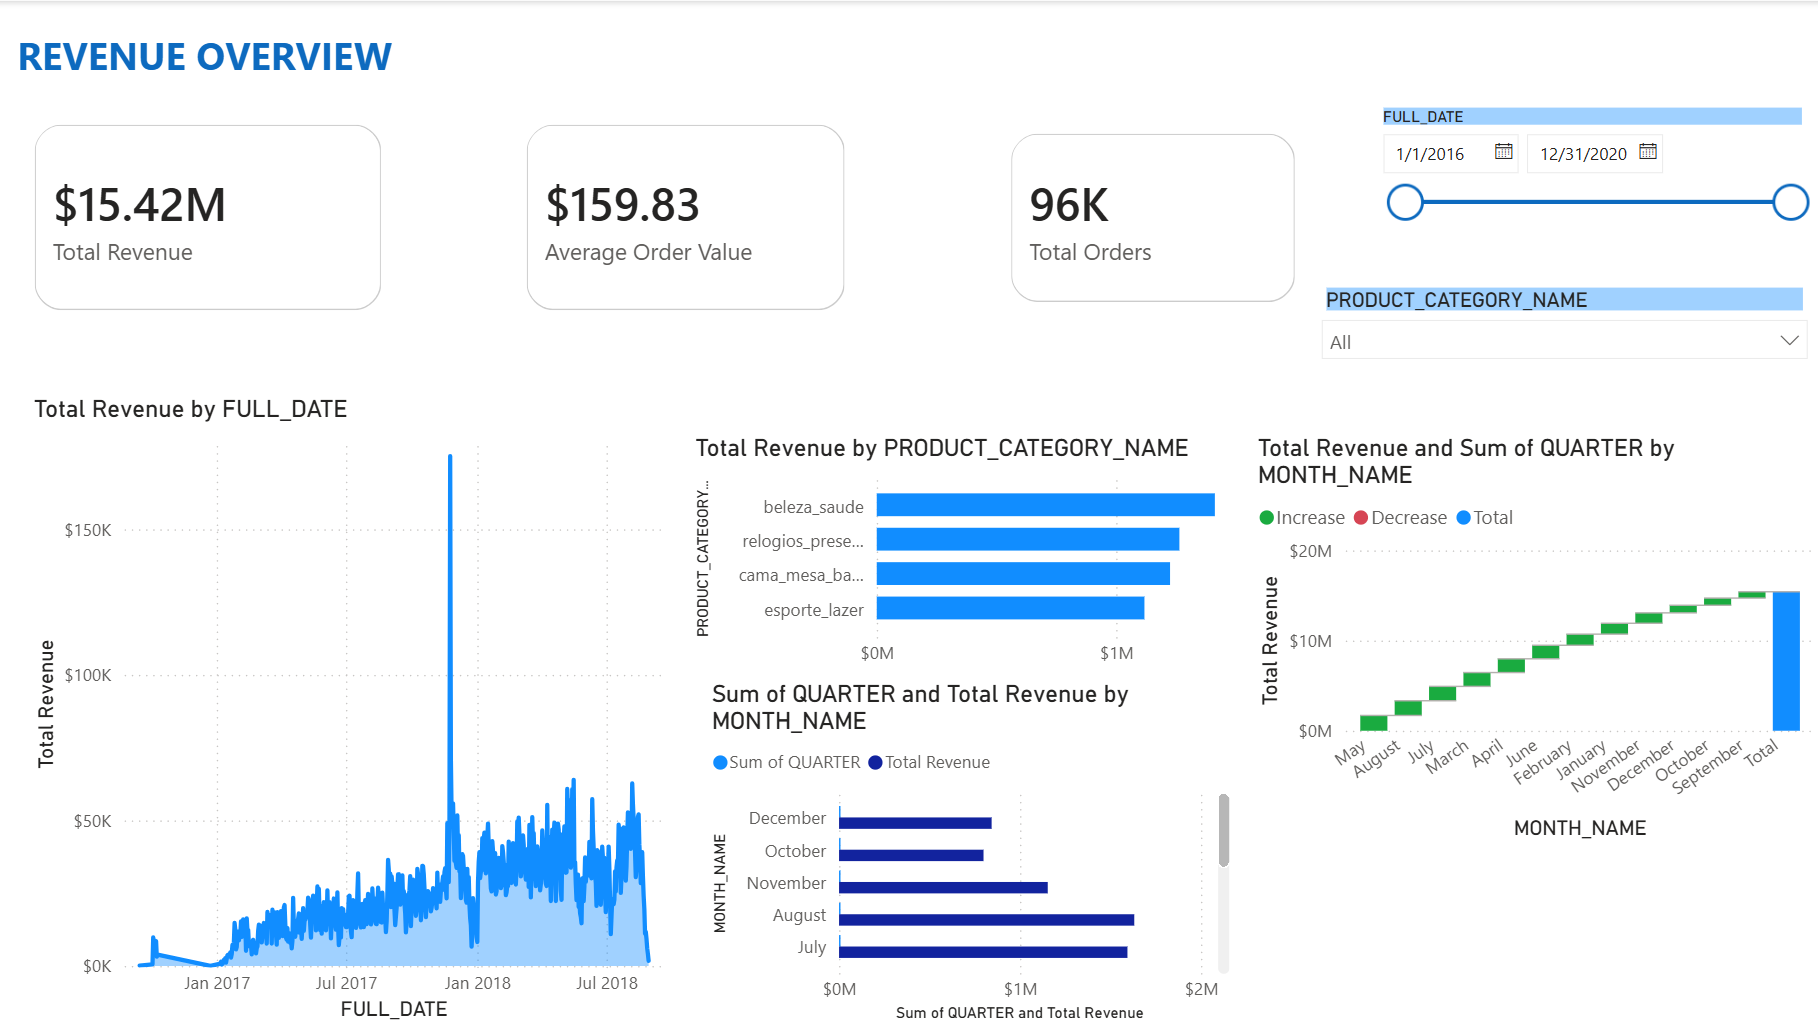

Layout of this report page (visuals, bound fields, positions):
{"tool":"powerbi","page":{"name":"Revenue","canvas":[1280,720],"ordinal":1},"visuals":[{"type":"cardVisual","fields":{"Data":["_MEASURES.Total Revenue"]},"box":[10.1,69.8,277,164.4],"z":0},{"type":"cardVisual","fields":{"Data":["_MEASURES.Average Order Value"]},"box":[355.9,69.8,257.9,164.4],"z":1000},{"type":"cardVisual","fields":{"Data":["_MEASURES.Total Orders"]},"box":[694.8,75.4,233.1,152],"z":2000},{"type":"lineChart","fields":{"Category":["DIM_DATE.FULL_DATE"],"Y":["_MEASURES.Total Revenue"]},"box":[22.5,275.9,462.8,443.7],"z":3000},{"type":"barChart","fields":{"Category":["DIM_PRODUCT.PRODUCT_CATEGORY_NAME"],"Y":["_MEASURES.Total Revenue"]},"box":[485.4,302.9,408.8,172.3],"z":4000},{"type":"slicer","fields":{"Values":["DIM_DATE.FULL_DATE"]},"box":[960.6,69.8,319.8,112.6],"z":5000},{"type":"slicer","fields":{"Values":["DIM_PRODUCT.PRODUCT_CATEGORY_NAME"]},"box":[920,195.9,360.4,107],"z":6000},{"type":"textbox","box":[649,570,233,150],"z":7000},{"type":"textbox","box":[10.1,14.6,310.8,45],"z":8000},{"type":"waterfallChart","fields":{"Category":["DIM_DATE.MONTH_NAME"],"Y":["_MEASURES.Total Revenue"]},"box":[880.6,302.9,399.8,289.4],"z":9000},{"type":"clusteredBarChart","fields":{"Y":["Sum(DIM_DATE.QUARTER)","_MEASURES.Total Revenue"],"Category":["DIM_DATE.MONTH_NAME"]},"box":[497.7,475.2,372.7,244.4],"z":10000}]}

Visuals, with their boxes in screenshot pixels (x1, y1, x2, y2), scaled from the page's 1280x720 canvas onto the 1818x1028 screenshot:
cardVisual - _MEASURES.Total Revenue: [14,100,408,334]
cardVisual - _MEASURES.Average Order Value: [505,100,872,334]
cardVisual - _MEASURES.Total Orders: [987,108,1318,325]
lineChart - DIM_DATE.FULL_DATE x _MEASURES.Total Revenue: [32,394,689,1027]
barChart - DIM_PRODUCT.PRODUCT_CATEGORY_NAME x _MEASURES.Total Revenue: [689,432,1270,678]
slicer - DIM_DATE.FULL_DATE: [1364,100,1817,260]
slicer - DIM_PRODUCT.PRODUCT_CATEGORY_NAME: [1307,280,1817,432]
textbox: [922,814,1253,1027]
textbox: [14,21,456,85]
waterfallChart - DIM_DATE.MONTH_NAME x _MEASURES.Total Revenue: [1251,432,1817,846]
clusteredBarChart - Sum(DIM_DATE.QUARTER) x _MEASURES.Total Revenue: [707,678,1236,1027]
